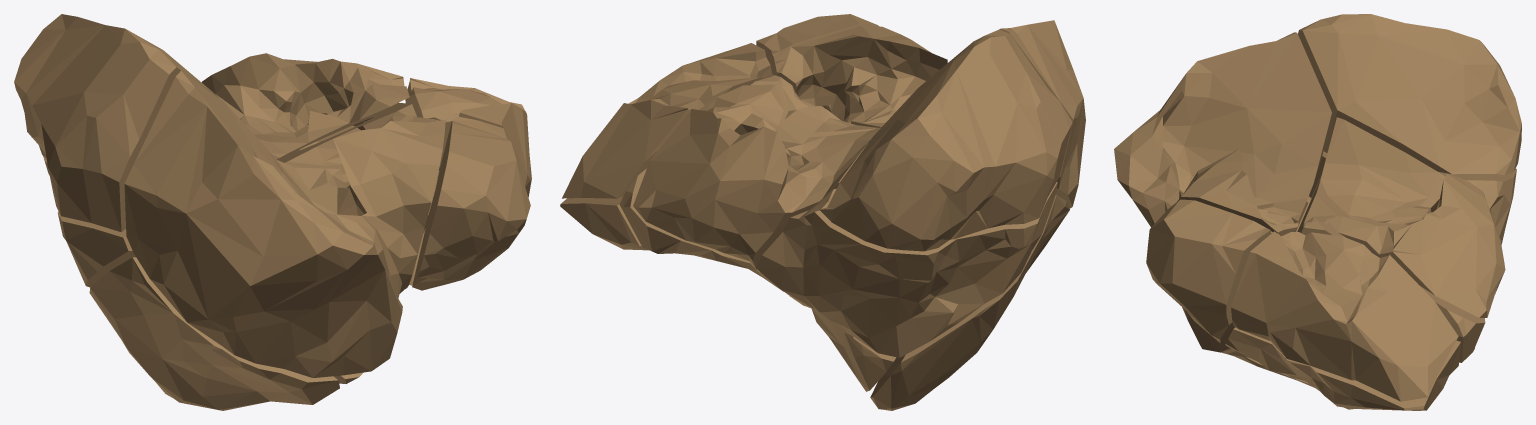
Rendered from SM_LP_FossilNode_1_Pieces.fbx.
The picture shows the model from 3 angles, left to right: view 1: azimuth 30°, elevation 25°; view 2: azimuth 150°, elevation 25°; view 3: azimuth 270°, elevation 25°; orthographic projection. The views are drawn at different scales.
Visible parts, largest first — view 1: SM_LP_FossilNode_1_Pieces_4, SM_LP_FossilNode_1_Pieces_1, SM_LP_FossilNode_1_Pieces_2, SM_LP_FossilNode_1_Pieces_9, SM_LP_FossilNode_1_Pieces_7, SM_LP_FossilNode_1_Pieces_11, SM_LP_FossilNode_1_Pieces_3, SM_LP_FossilNode_1_Pieces_8; view 2: SM_LP_FossilNode_1_Pieces_1, SM_LP_FossilNode_1_Pieces_7, SM_LP_FossilNode_1_Pieces_3, SM_LP_FossilNode_1_Pieces_4, SM_LP_FossilNode_1_Pieces_11, SM_LP_FossilNode_1_Pieces_2, SM_LP_FossilNode_1_Pieces_8, SM_LP_FossilNode_1_Pieces_10, SM_LP_FossilNode_1_Pieces_9, SM_LP_FossilNode_1_Pieces_5; view 3: SM_LP_FossilNode_1_Pieces_4, SM_LP_FossilNode_1_Pieces_11, SM_LP_FossilNode_1_Pieces_1, SM_LP_FossilNode_1_Pieces_7, SM_LP_FossilNode_1_Pieces_9, SM_LP_FossilNode_1_Pieces_10, SM_LP_FossilNode_1_Pieces_8, SM_LP_FossilNode_1_Pieces_3.
Boxes of the visible parts, <box> form: SM_LP_FossilNode_1_Pieces_4: <box>124,70,445,377</box>; SM_LP_FossilNode_1_Pieces_1: <box>14,14,219,232</box>; SM_LP_FossilNode_1_Pieces_2: <box>89,257,339,410</box>; SM_LP_FossilNode_1_Pieces_9: <box>412,116,530,290</box>; SM_LP_FossilNode_1_Pieces_7: <box>202,53,409,159</box>; SM_LP_FossilNode_1_Pieces_11: <box>405,78,531,197</box>; SM_LP_FossilNode_1_Pieces_3: <box>43,156,135,287</box>; SM_LP_FossilNode_1_Pieces_8: <box>276,102,416,174</box>; SM_LP_FossilNode_1_Pieces_1: <box>819,29,1072,251</box>; SM_LP_FossilNode_1_Pieces_7: <box>633,84,913,269</box>; SM_LP_FossilNode_1_Pieces_3: <box>756,182,1057,357</box>; SM_LP_FossilNode_1_Pieces_4: <box>775,20,1085,208</box>; SM_LP_FossilNode_1_Pieces_11: <box>562,43,772,198</box>; SM_LP_FossilNode_1_Pieces_2: <box>870,195,1069,410</box>; SM_LP_FossilNode_1_Pieces_8: <box>619,75,877,291</box>; SM_LP_FossilNode_1_Pieces_10: <box>560,196,648,250</box>; SM_LP_FossilNode_1_Pieces_9: <box>756,14,879,105</box>; SM_LP_FossilNode_1_Pieces_5: <box>789,296,896,391</box>; SM_LP_FossilNode_1_Pieces_4: <box>1114,32,1331,352</box>; SM_LP_FossilNode_1_Pieces_11: <box>1231,231,1458,401</box>; SM_LP_FossilNode_1_Pieces_1: <box>1298,14,1521,175</box>; SM_LP_FossilNode_1_Pieces_7: <box>1318,117,1505,317</box>; SM_LP_FossilNode_1_Pieces_9: <box>1146,199,1272,343</box>; SM_LP_FossilNode_1_Pieces_10: <box>1225,327,1460,410</box>; SM_LP_FossilNode_1_Pieces_8: <box>1297,180,1485,362</box>; SM_LP_FossilNode_1_Pieces_3: <box>1308,151,1516,244</box>.
Size of the model in its own units: 1.23 by 0.9333 by 1.
